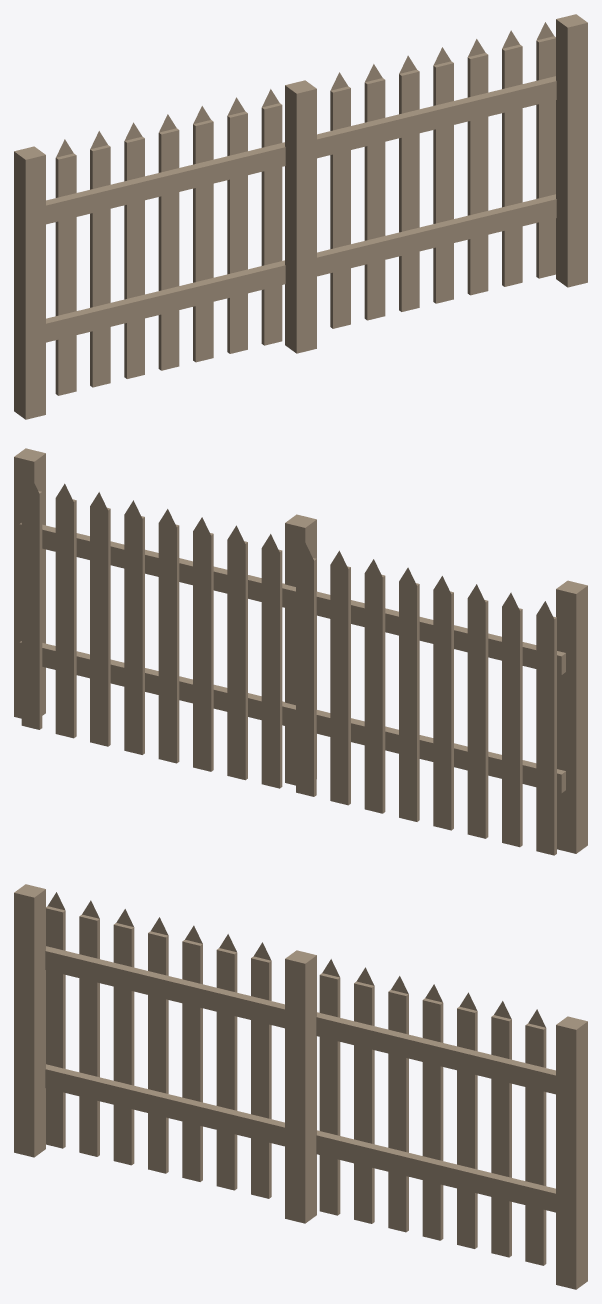
File: fence.glb
The picture shows the model from 3 angles, top to bottom: view 1: azimuth 30°, elevation 25°; view 2: azimuth 150°, elevation 25°; view 3: azimuth 330°, elevation 25°; orthographic projection.
Parts seen in each view (by area): view 1: Fence; view 2: Fence; view 3: Fence.
Boxes of the visible parts, x1,y1,x2,y2 form: Fence: (14, 14, 587, 419); Fence: (14, 448, 587, 855); Fence: (14, 884, 587, 1289).
Size of the model in its own units: 2.49 by 1.1 by 0.145.
